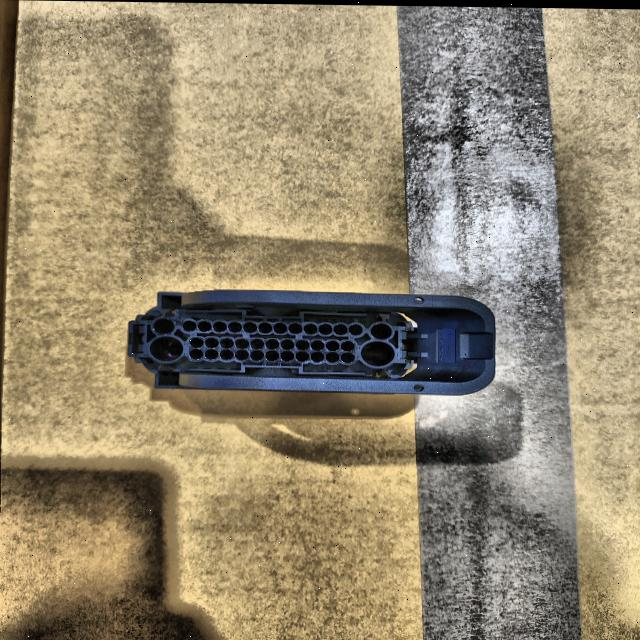P38: (128, 289, 495, 394)
